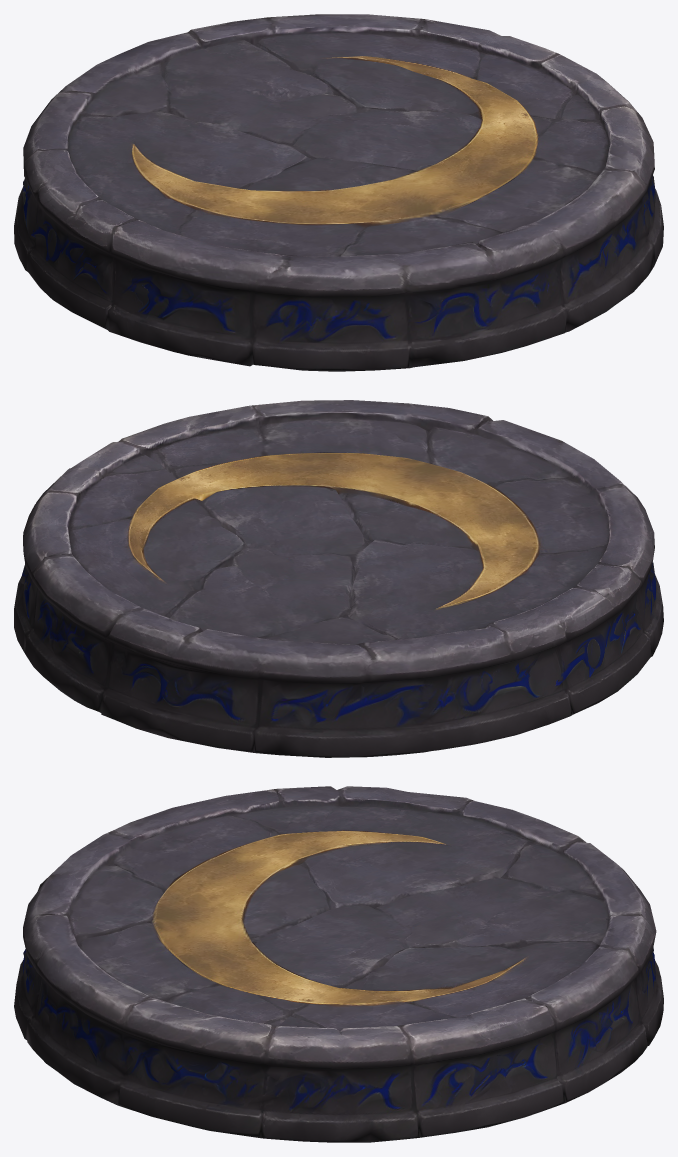
Rendered from trial_platform_blue_source.glb.
3 views of the same model, one above another, from view 1: azimuth 30°, elevation 25°; view 2: azimuth 150°, elevation 25°; view 3: azimuth 270°, elevation 25° (orthographic).
Visible parts, largest first — view 1: tripo_node_56dc074d-88cb-41e0-950e-fdb9b439adbc; view 2: tripo_node_56dc074d-88cb-41e0-950e-fdb9b439adbc; view 3: tripo_node_56dc074d-88cb-41e0-950e-fdb9b439adbc.
Part boxes in pixels (box(x1,y1,x2,y2)): tripo_node_56dc074d-88cb-41e0-950e-fdb9b439adbc: box(14, 14, 663, 371); tripo_node_56dc074d-88cb-41e0-950e-fdb9b439adbc: box(14, 400, 663, 757); tripo_node_56dc074d-88cb-41e0-950e-fdb9b439adbc: box(14, 786, 663, 1142).
Bounding box in the file's own units: 0.9801 × 0.1566 × 0.9799.
Materials: 1 (1 with a texture image).
